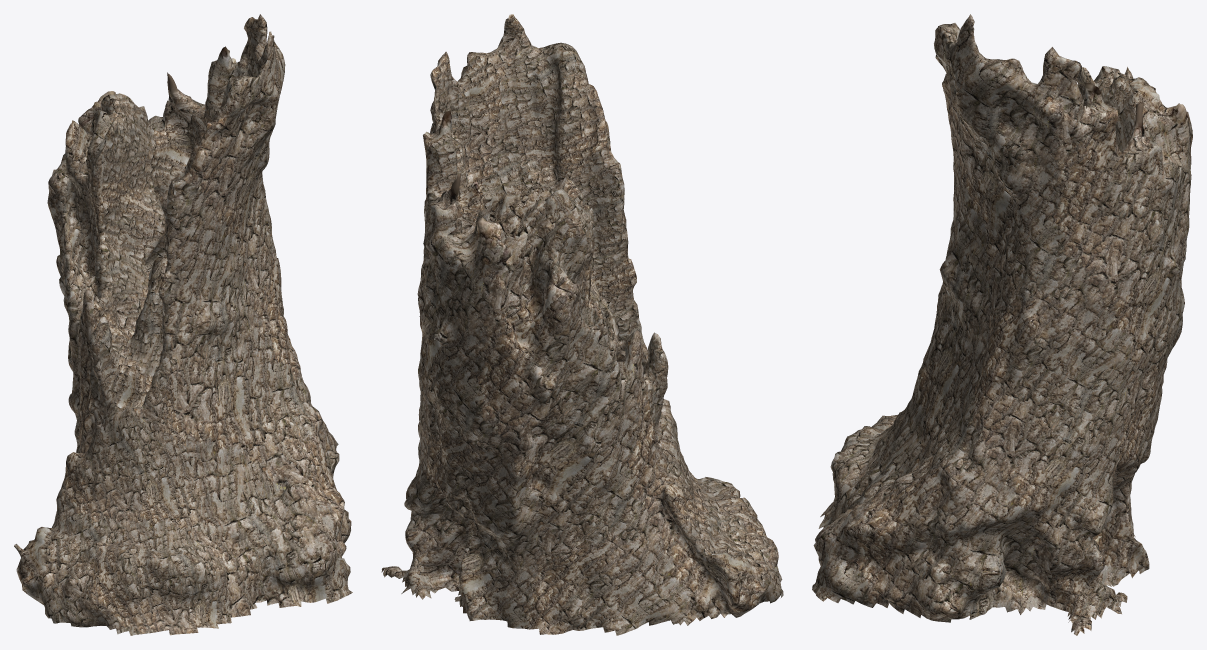
Rendered from Log2 1.fbx.
3 renders of one model, left to right at view 1: azimuth 30°, elevation 25°; view 2: azimuth 150°, elevation 25°; view 3: azimuth 270°, elevation 25°, orthographic. The views are drawn at different scales.
Visible parts, largest first — view 1: DeadStump01_Quads; view 2: DeadStump01_Quads; view 3: DeadStump01_Quads.
Part boxes in pixels (x1,y1,x2,y2): DeadStump01_Quads: [14, 14, 352, 635]; DeadStump01_Quads: [381, 14, 783, 635]; DeadStump01_Quads: [812, 14, 1192, 635].
Size of the model in its own units: 246 by 378 by 225.
